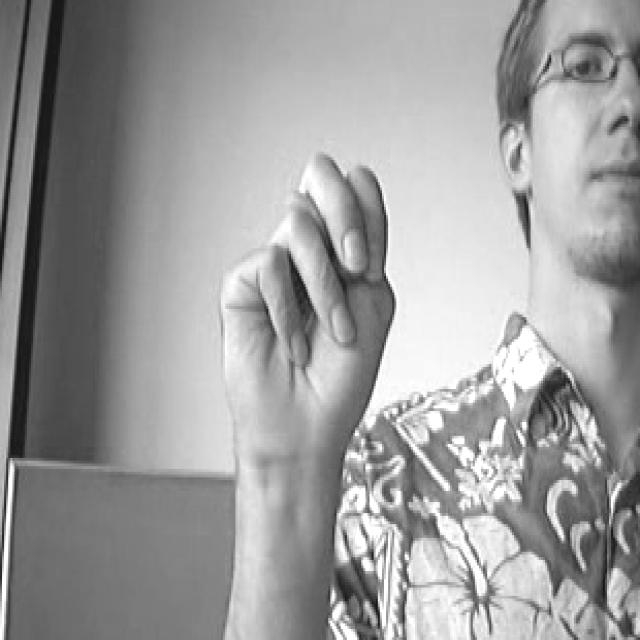N: (200, 141, 416, 460)
